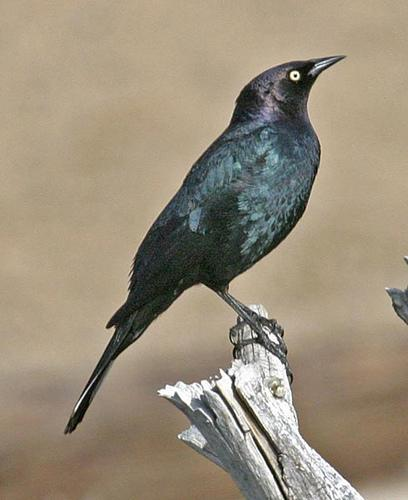009.Brewer_Blackbird: (60, 55, 345, 441)
